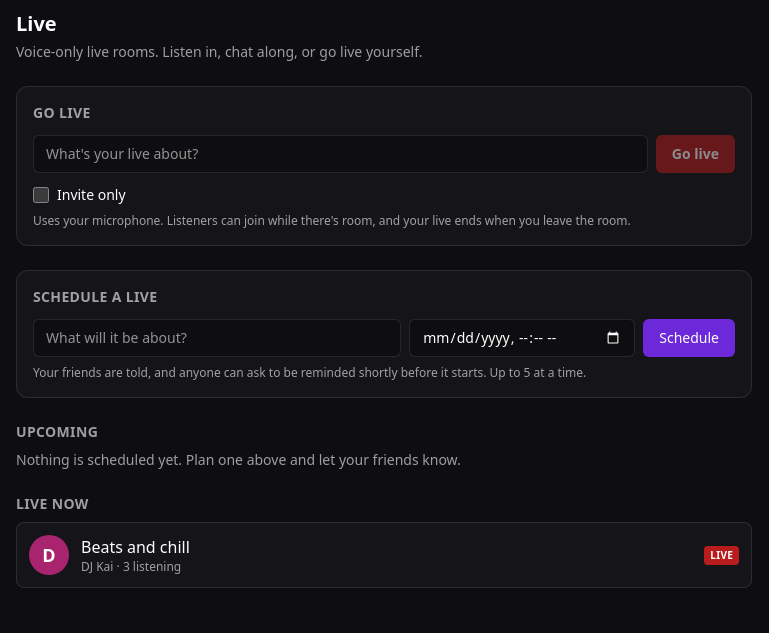
Test: LivePage: going live › turns the microphone back off and shows the server's message if the live can't be created
This screenshot has width=769, height=633.
Type "My first live" into the field named "Live title".
click(340, 154); type("My first live")  # box [33,135,648,173]
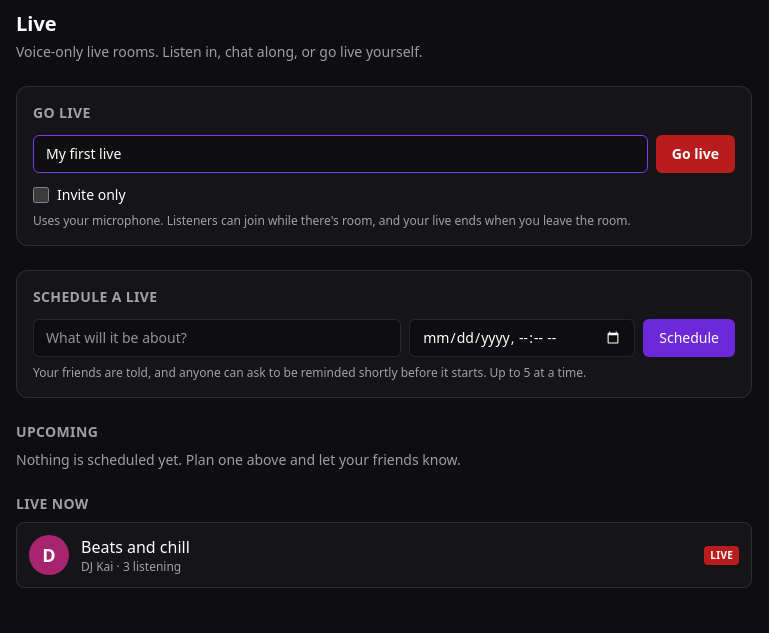
Click the button "Go live".
click(695, 154)  # box [656,135,735,173]
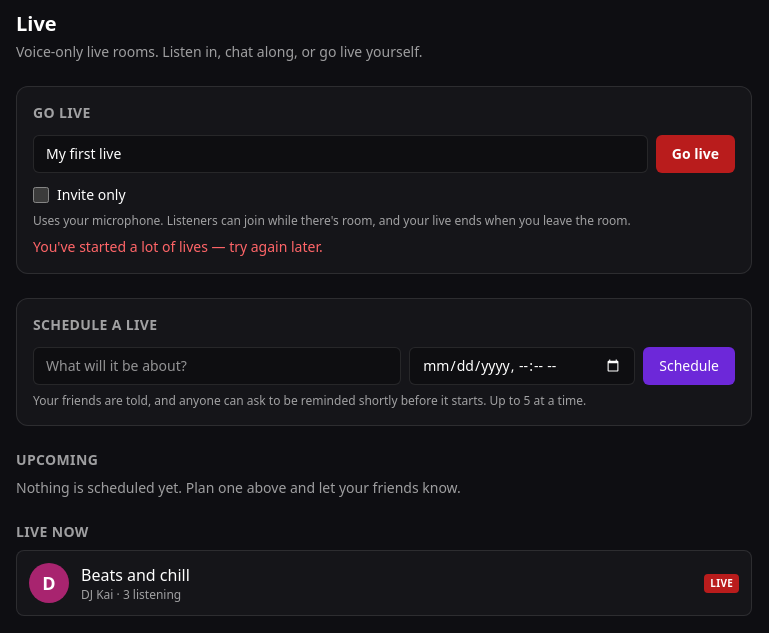
Expected: the message shows "started a lot of lives", [33,237,323,256]
